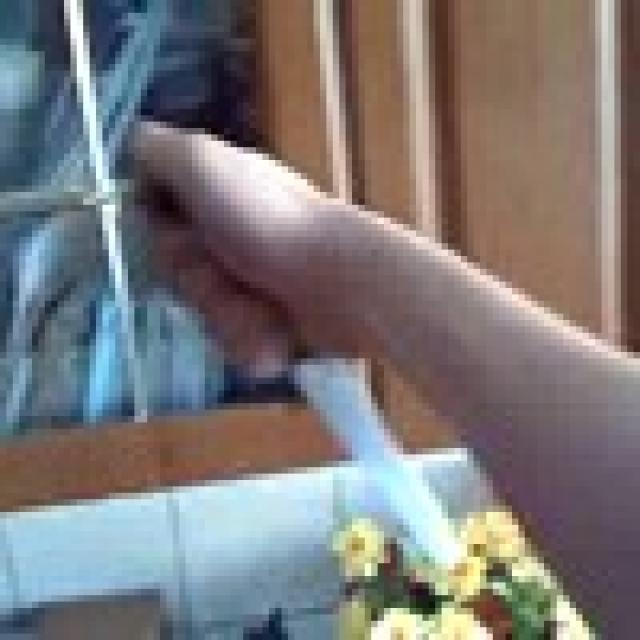Knife: (275, 352, 474, 589)
